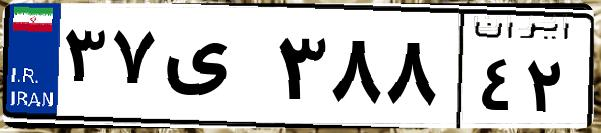2: (525, 38, 570, 115)
3: (270, 28, 330, 110), (57, 26, 110, 100)
4: (475, 38, 525, 113)
7: (110, 28, 158, 98)
8: (385, 28, 445, 110), (330, 28, 385, 110)
ی: (158, 20, 270, 120)
